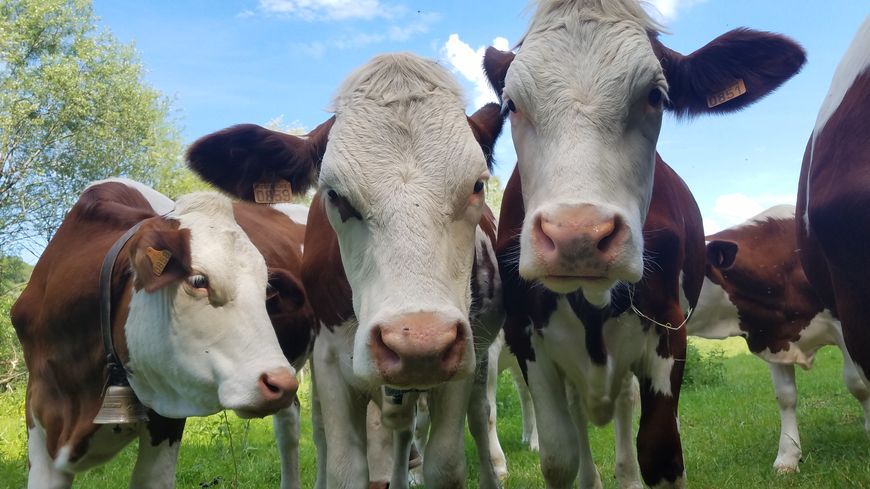cow: (483, 13, 763, 309), (299, 76, 503, 383), (121, 203, 323, 427)
